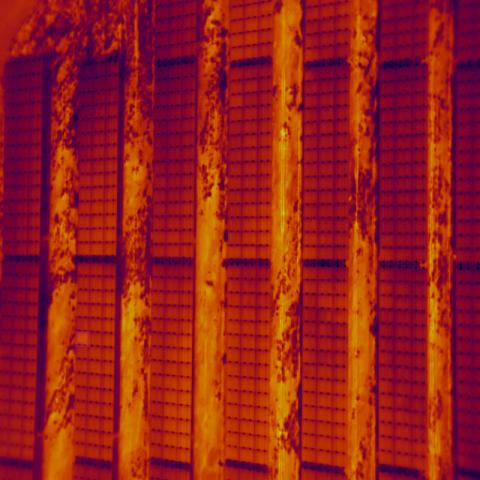fault: (75, 331, 90, 347)
